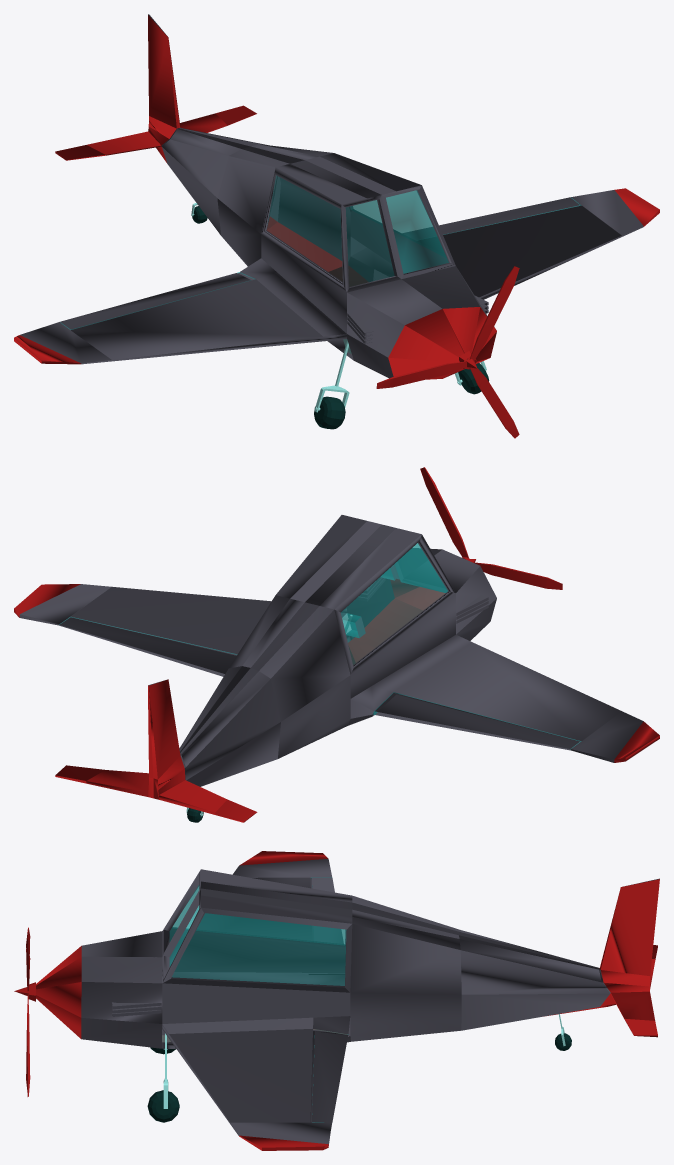
3 renders of one model, top to bottom at view 1: azimuth 30°, elevation 25°; view 2: azimuth 150°, elevation 25°; view 3: azimuth 270°, elevation 25°, orthographic.
Visible parts, largest first — view 1: Cube_3_Mesh, CubesPropeller_Mesh, Wheel_4_Mesh; view 2: Cube_3_Mesh, CubesPropeller_Mesh; view 3: Cube_3_Mesh, Wheel_2_Mesh, CubesPropeller_Mesh.
Part boxes in pixels (x1,y1,x2,y2): Cube_3_Mesh: [14, 14, 659, 379]; CubesPropeller_Mesh: [376, 266, 519, 438]; Wheel_4_Mesh: [314, 396, 345, 429]; Cube_3_Mesh: [14, 515, 659, 822]; CubesPropeller_Mesh: [420, 467, 562, 589]; Cube_3_Mesh: [36, 851, 659, 1150]; Wheel_2_Mesh: [147, 1090, 179, 1122]; CubesPropeller_Mesh: [26, 927, 30, 1096].
Size of the model in its own units: 8.69 by 2.85 by 7.99.
